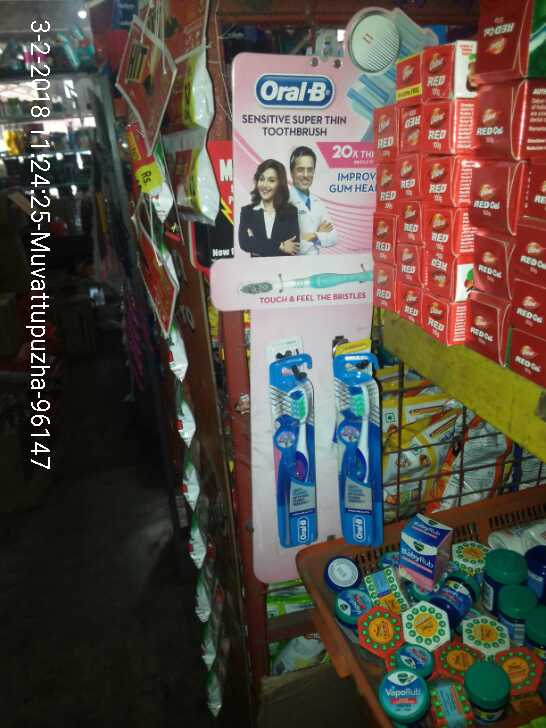oralb: (332, 350, 386, 547), (266, 361, 319, 548)
